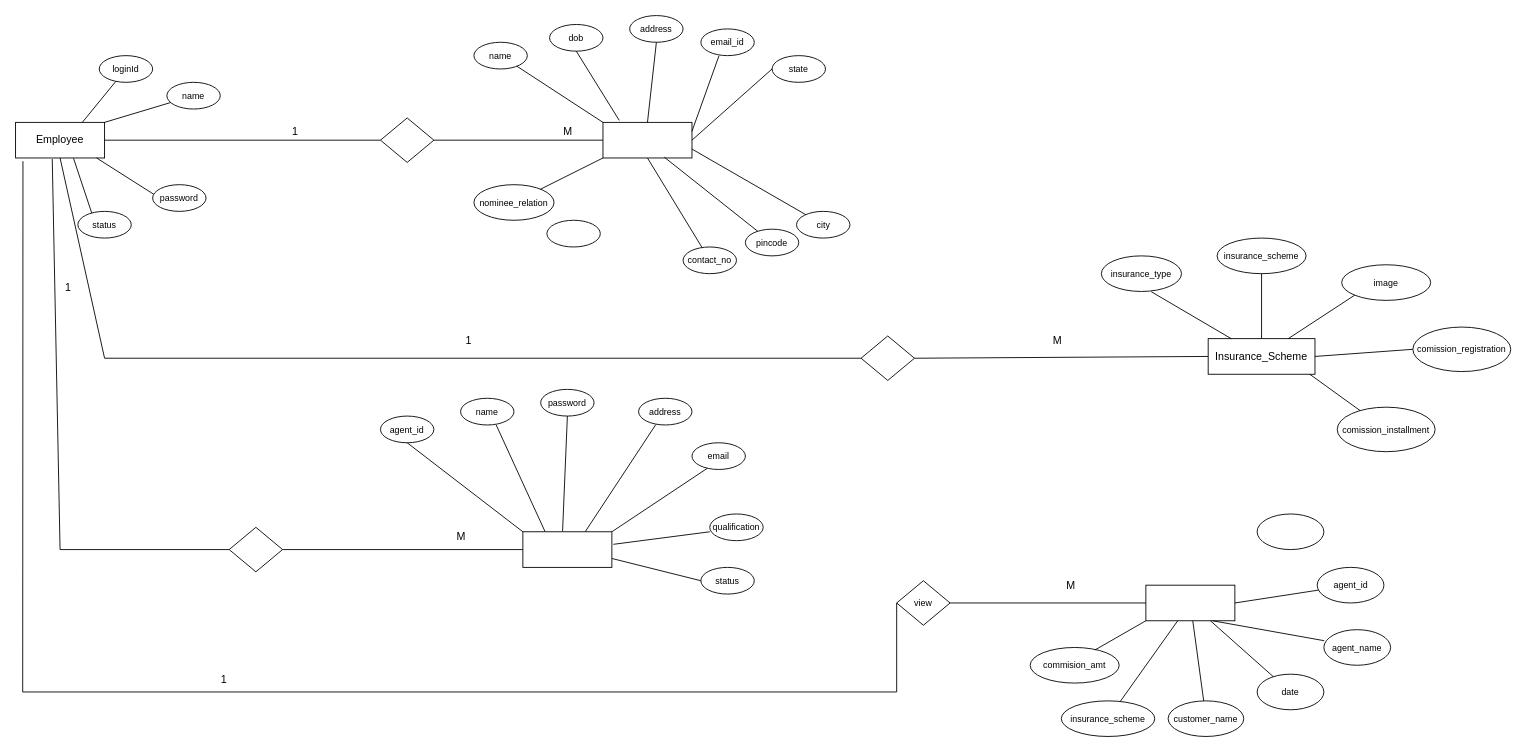
Some shapes in this 1526 by 752 pixel diagram are drawn without their labels. Here are the shapes that lost their labels. From the top down, the centre of each, then its label:
At pixel 407 139: "Manages".
At pixel 647 139: "Customer".
At pixel 573 233: "nominee".
At pixel 887 357: "Edit".
At pixel 255 549: "ADD".
At pixel 567 549: "Agent".
At pixel 1290 531: "insurance_ac".
At pixel 1190 602: "Commision".
